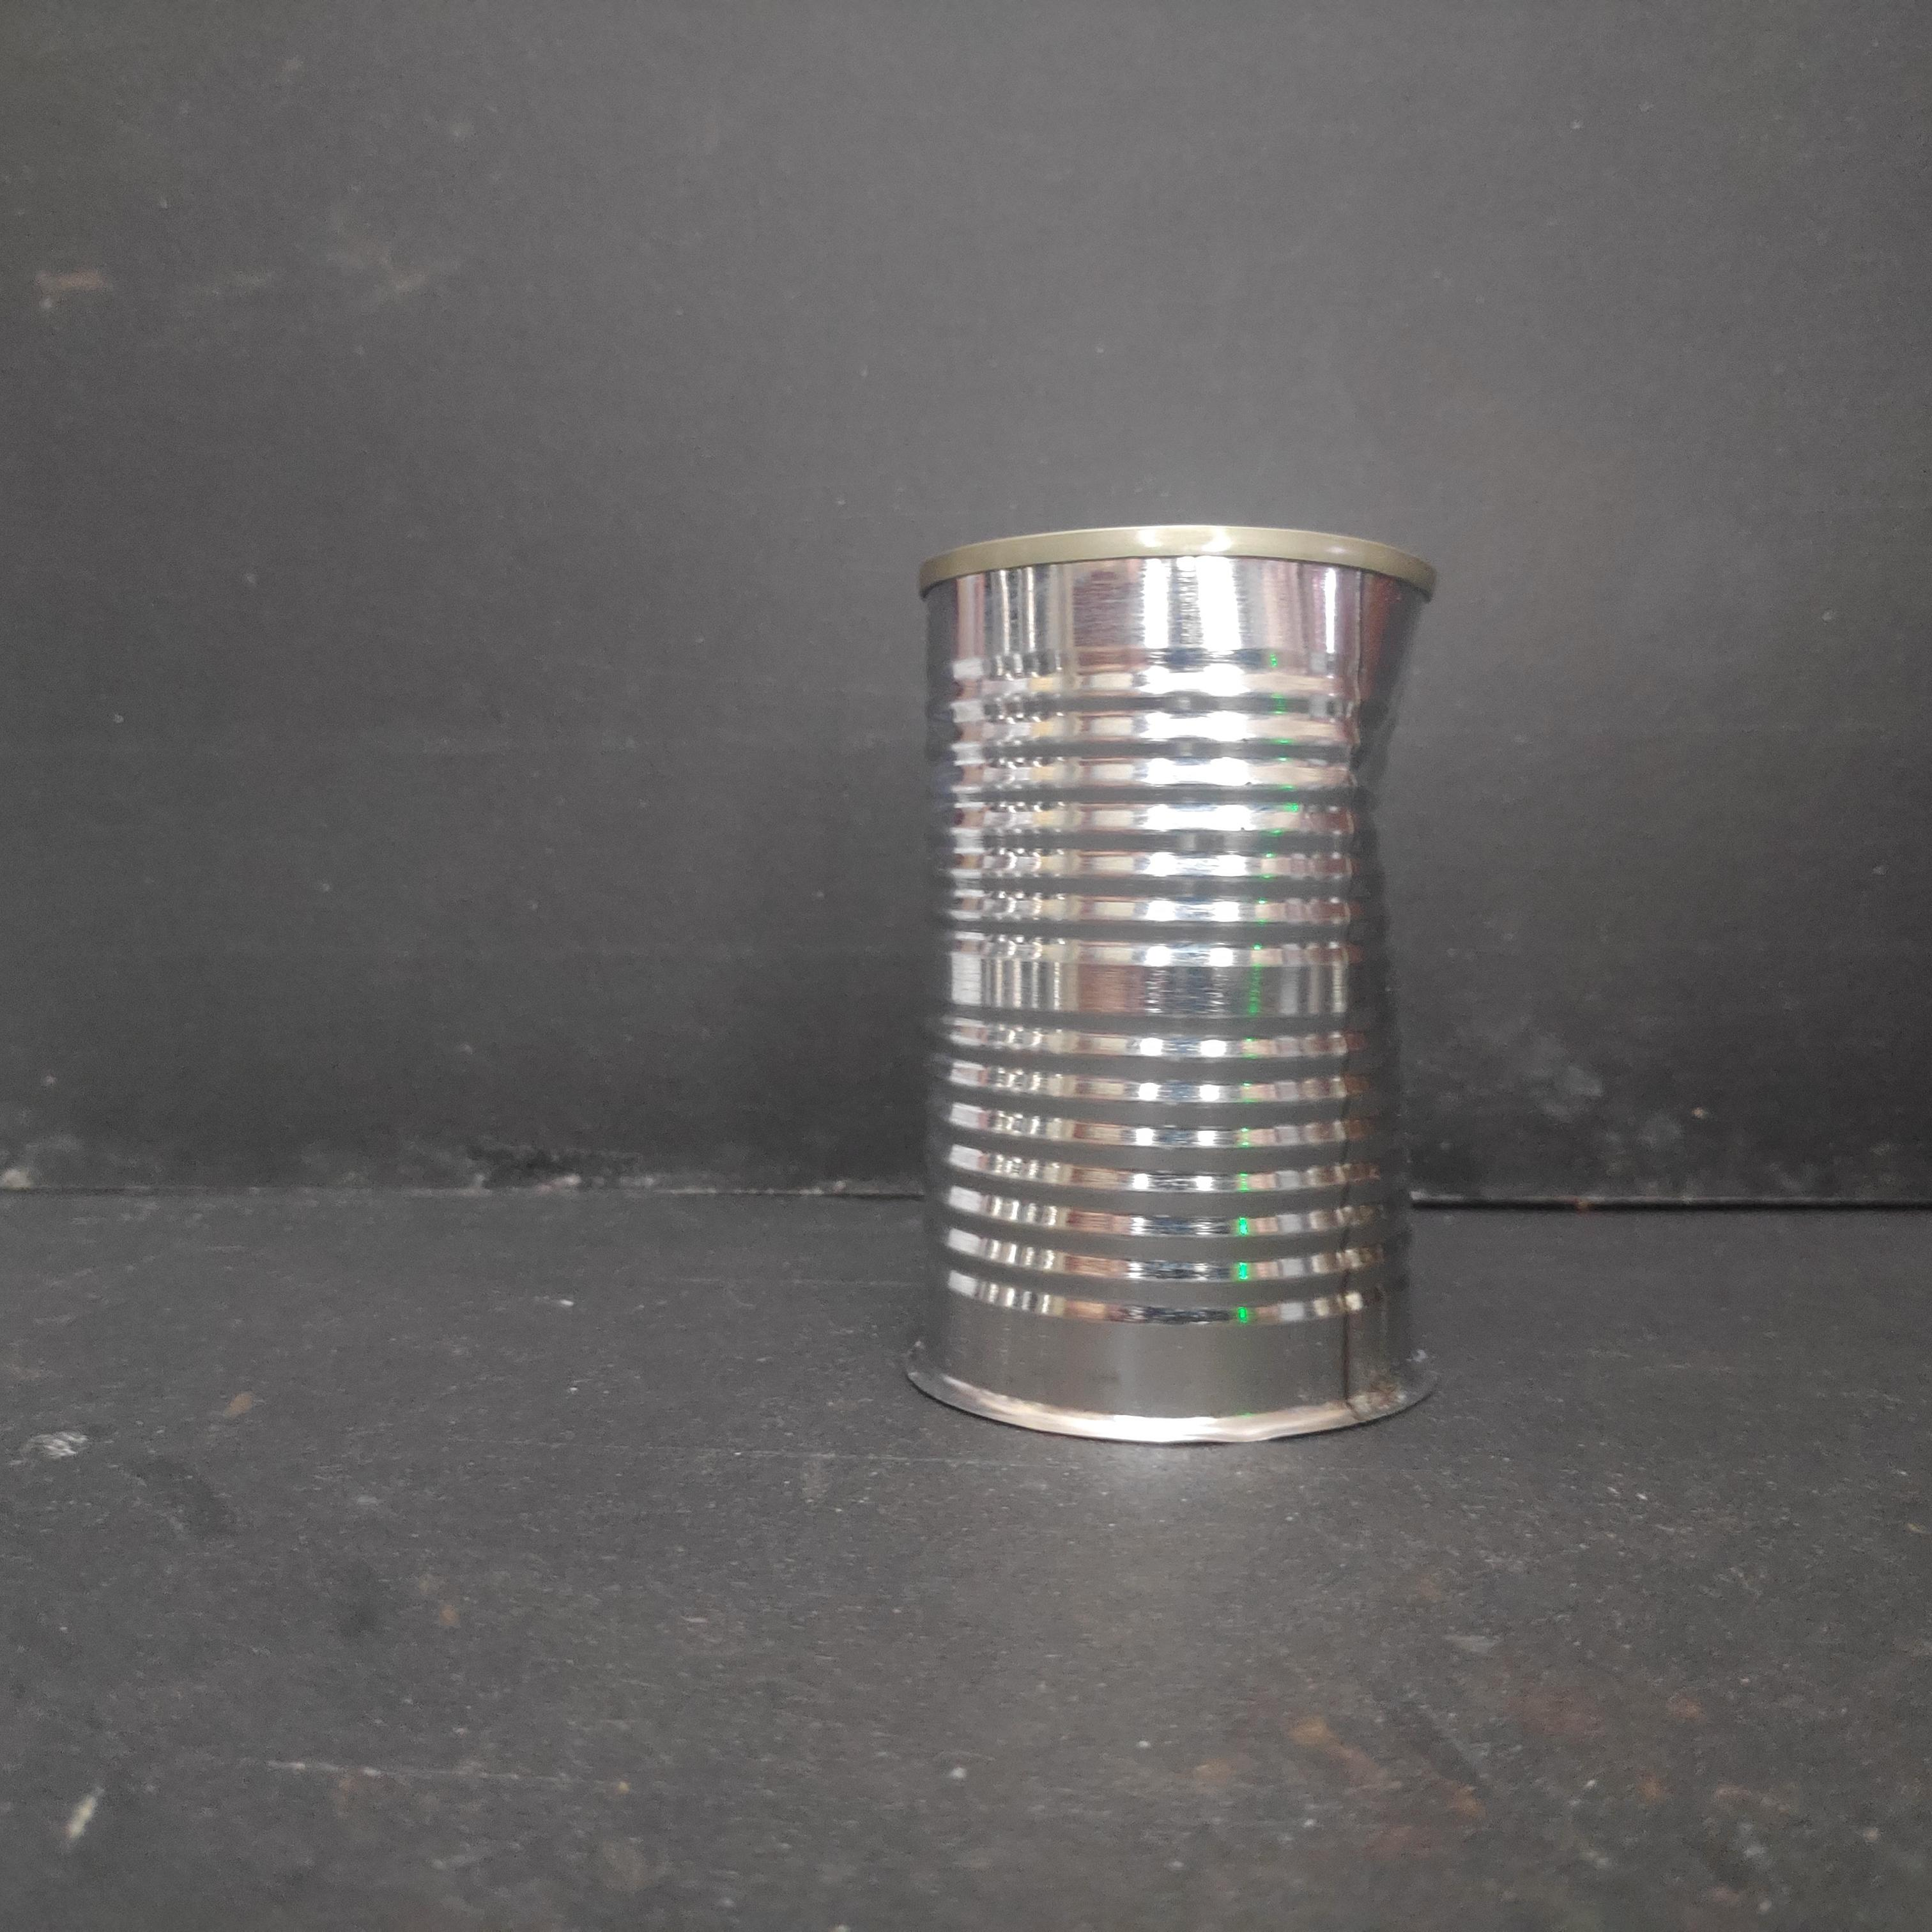Minor Defect: (905, 512, 1452, 1457)
